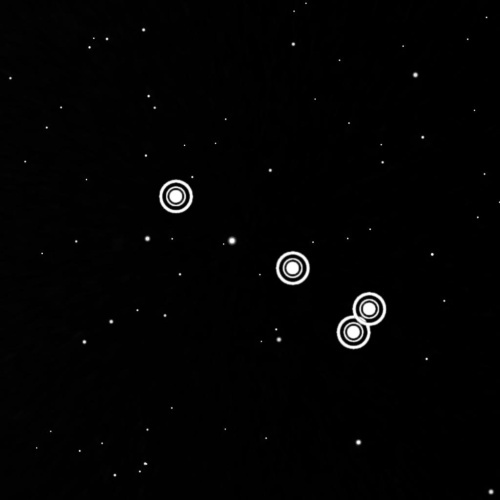sagitta: (145, 169, 393, 357)
